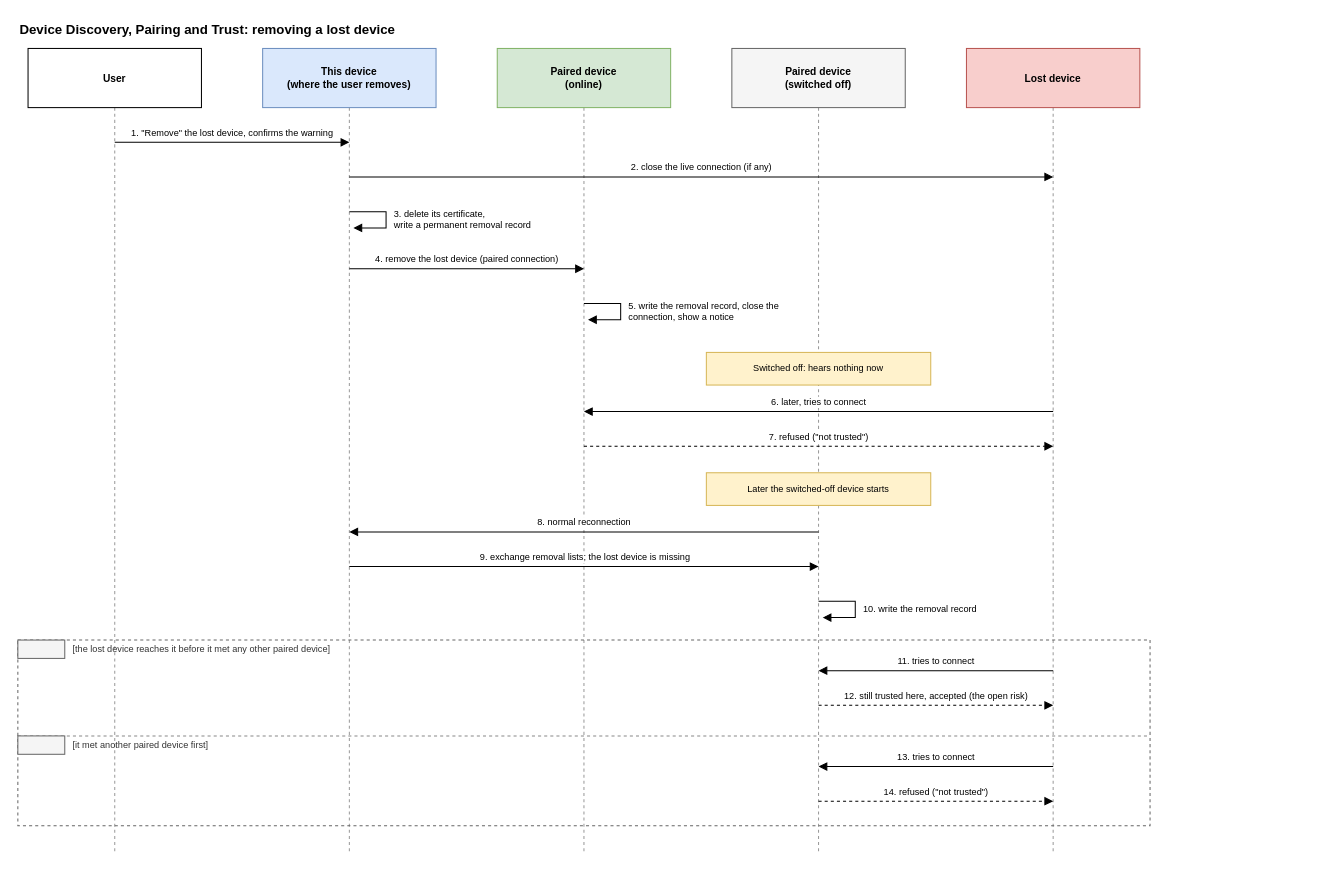
The diagram is 1336 pixels wide and 873 high, and some of its shapes have lost their labels. Each missing label, with the centre of its shape:
"alt" goes at (x=41, y=648).
"else" goes at (x=41, y=744).
